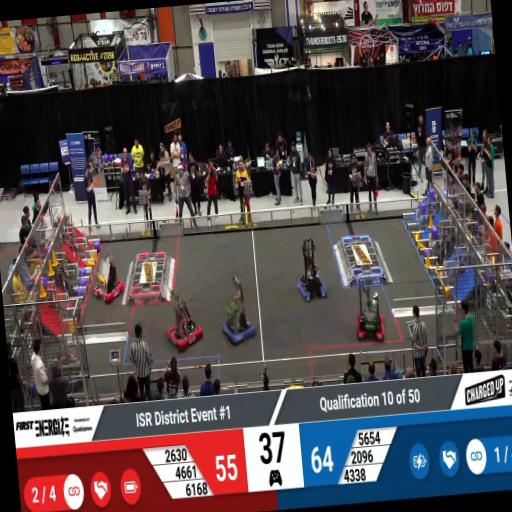robot: (160, 290, 206, 353), (219, 286, 257, 348), (352, 292, 387, 344), (90, 258, 126, 306), (296, 254, 330, 304), (50, 344, 85, 392)
